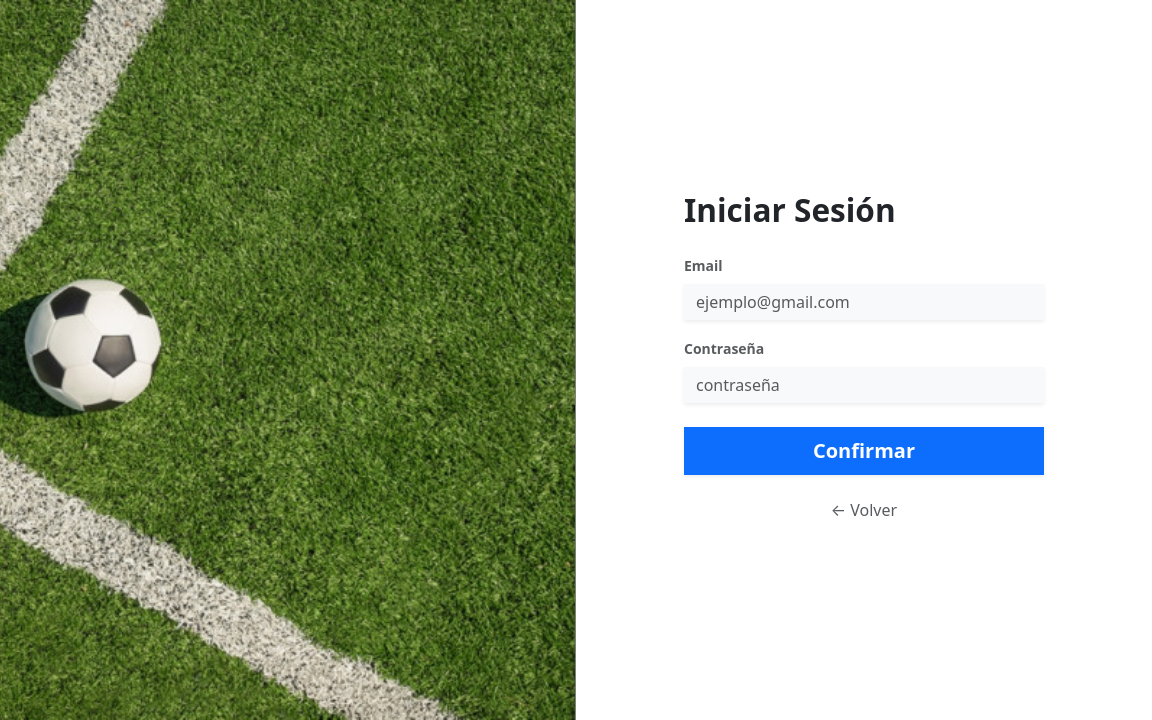
Test: FormInicioSesion › muestra un error cuando el email tiene un formato inválido
Type "correo-invalido" into the field labelled "Email" at (864,302), box [684,284,1044,320]
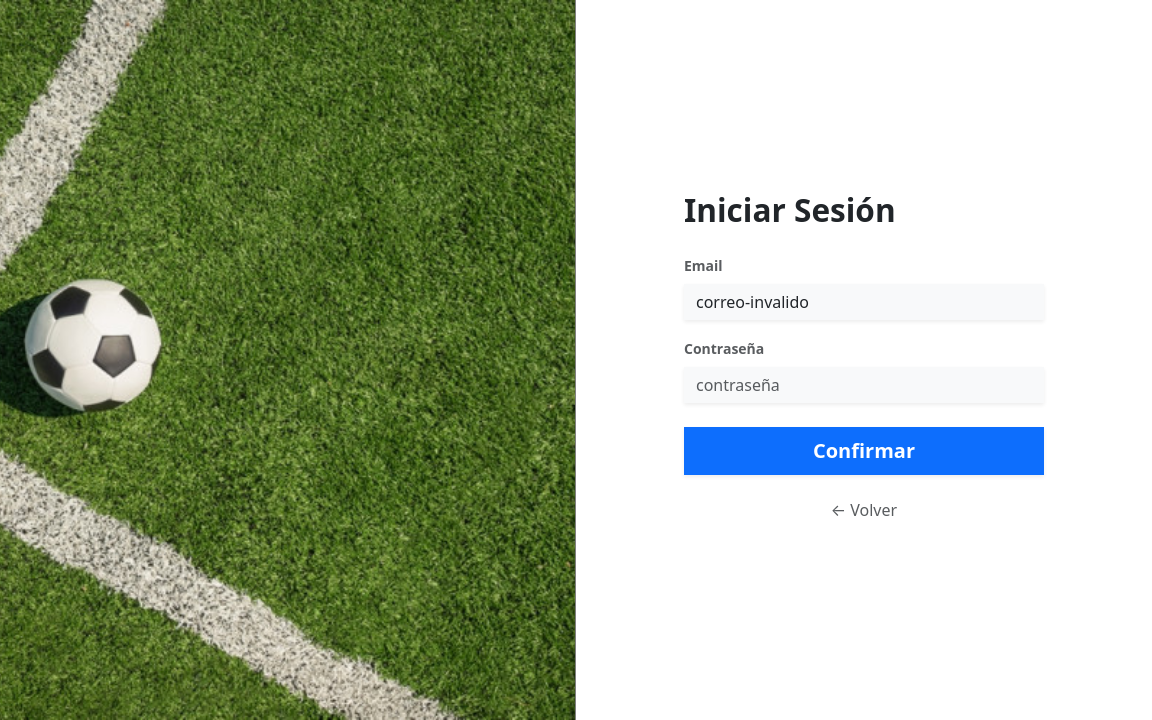
Click the button "Confirmar" at (864,451), box [684,427,1044,475]
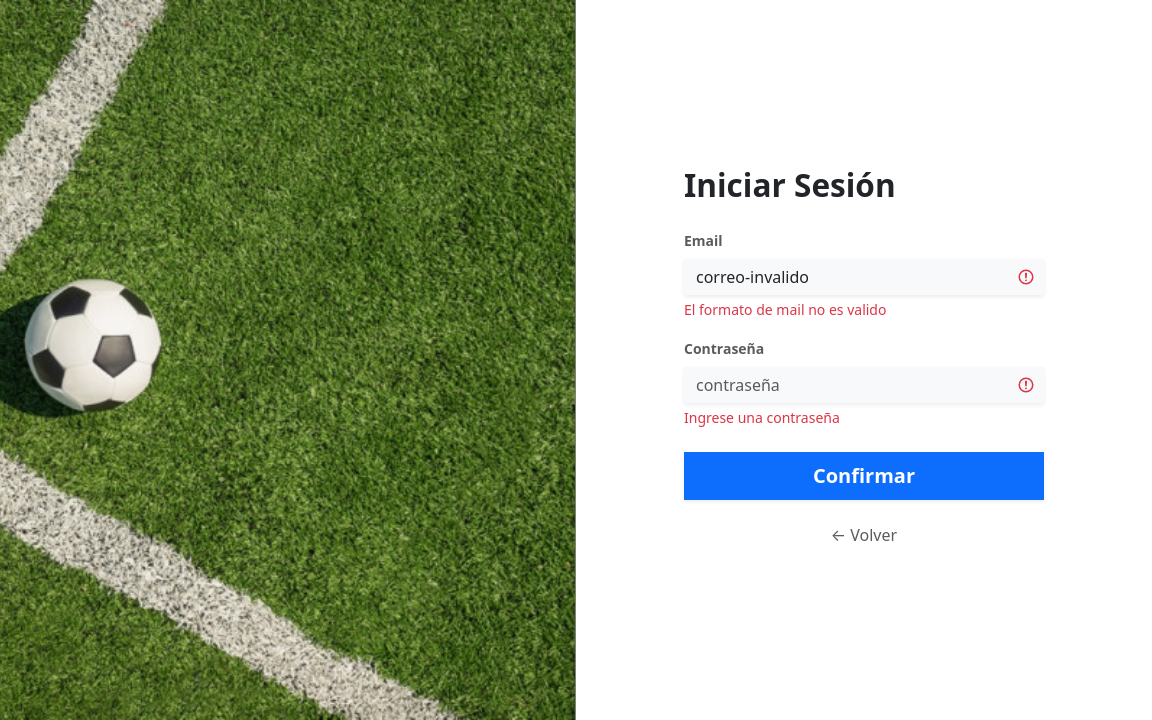
Now the text "El formato de mail no es valido" is shown, box [684,300,886,319]
